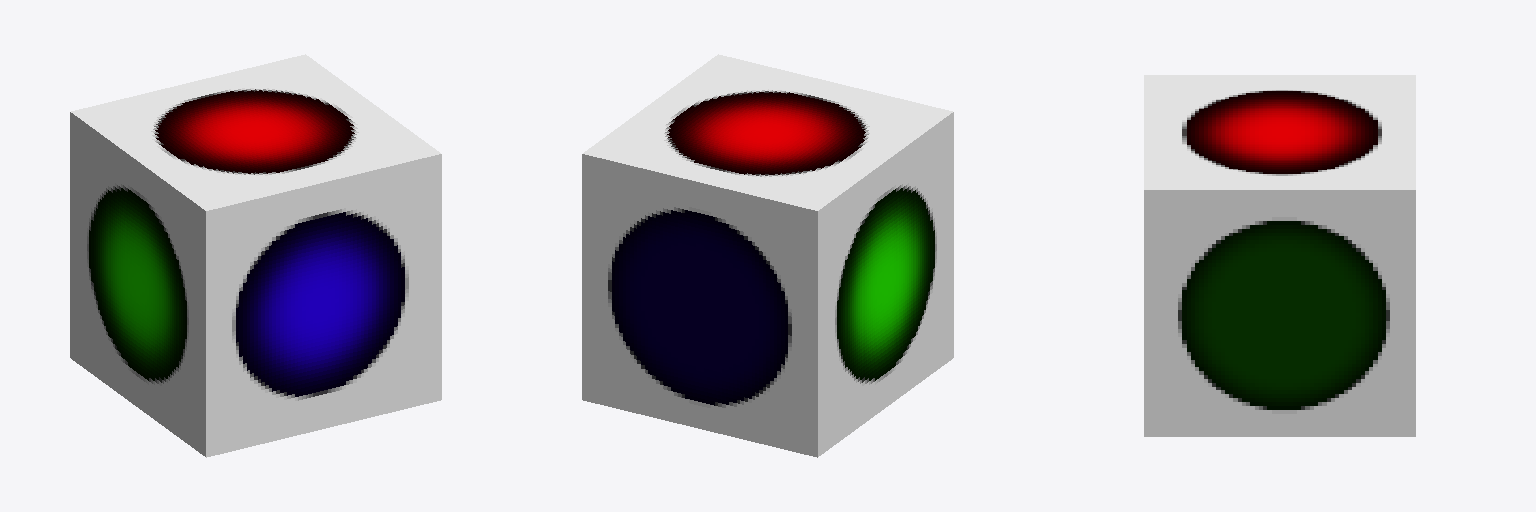
The picture shows the model from 3 angles: view 1: azimuth 30°, elevation 25°; view 2: azimuth 150°, elevation 25°; view 3: azimuth 270°, elevation 25°; orthographic projection.
Parts seen in each view (by area): view 1: Cube; view 2: Cube; view 3: Cube.
Boxes of the visible parts, x1=… form: Cube: x1=70, y1=54, x2=441, y2=457; Cube: x1=582, y1=54, x2=953, y2=457; Cube: x1=1144, y1=75, x2=1415, y2=436.
Bounding box in the file's own units: 2 × 2 × 2.
1 materials, 1 textured.